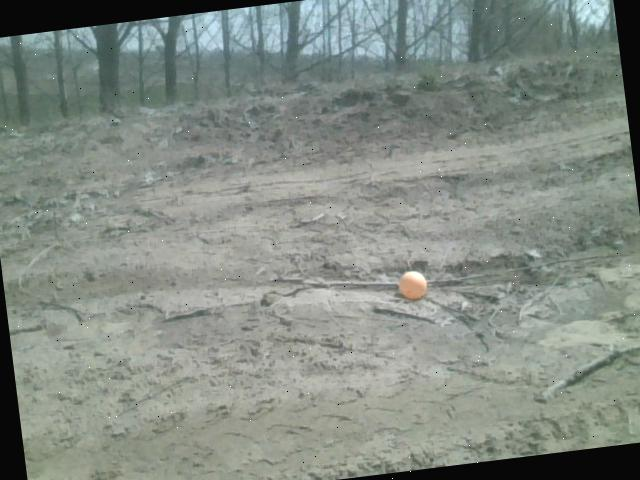ball: (399, 270, 428, 302)
